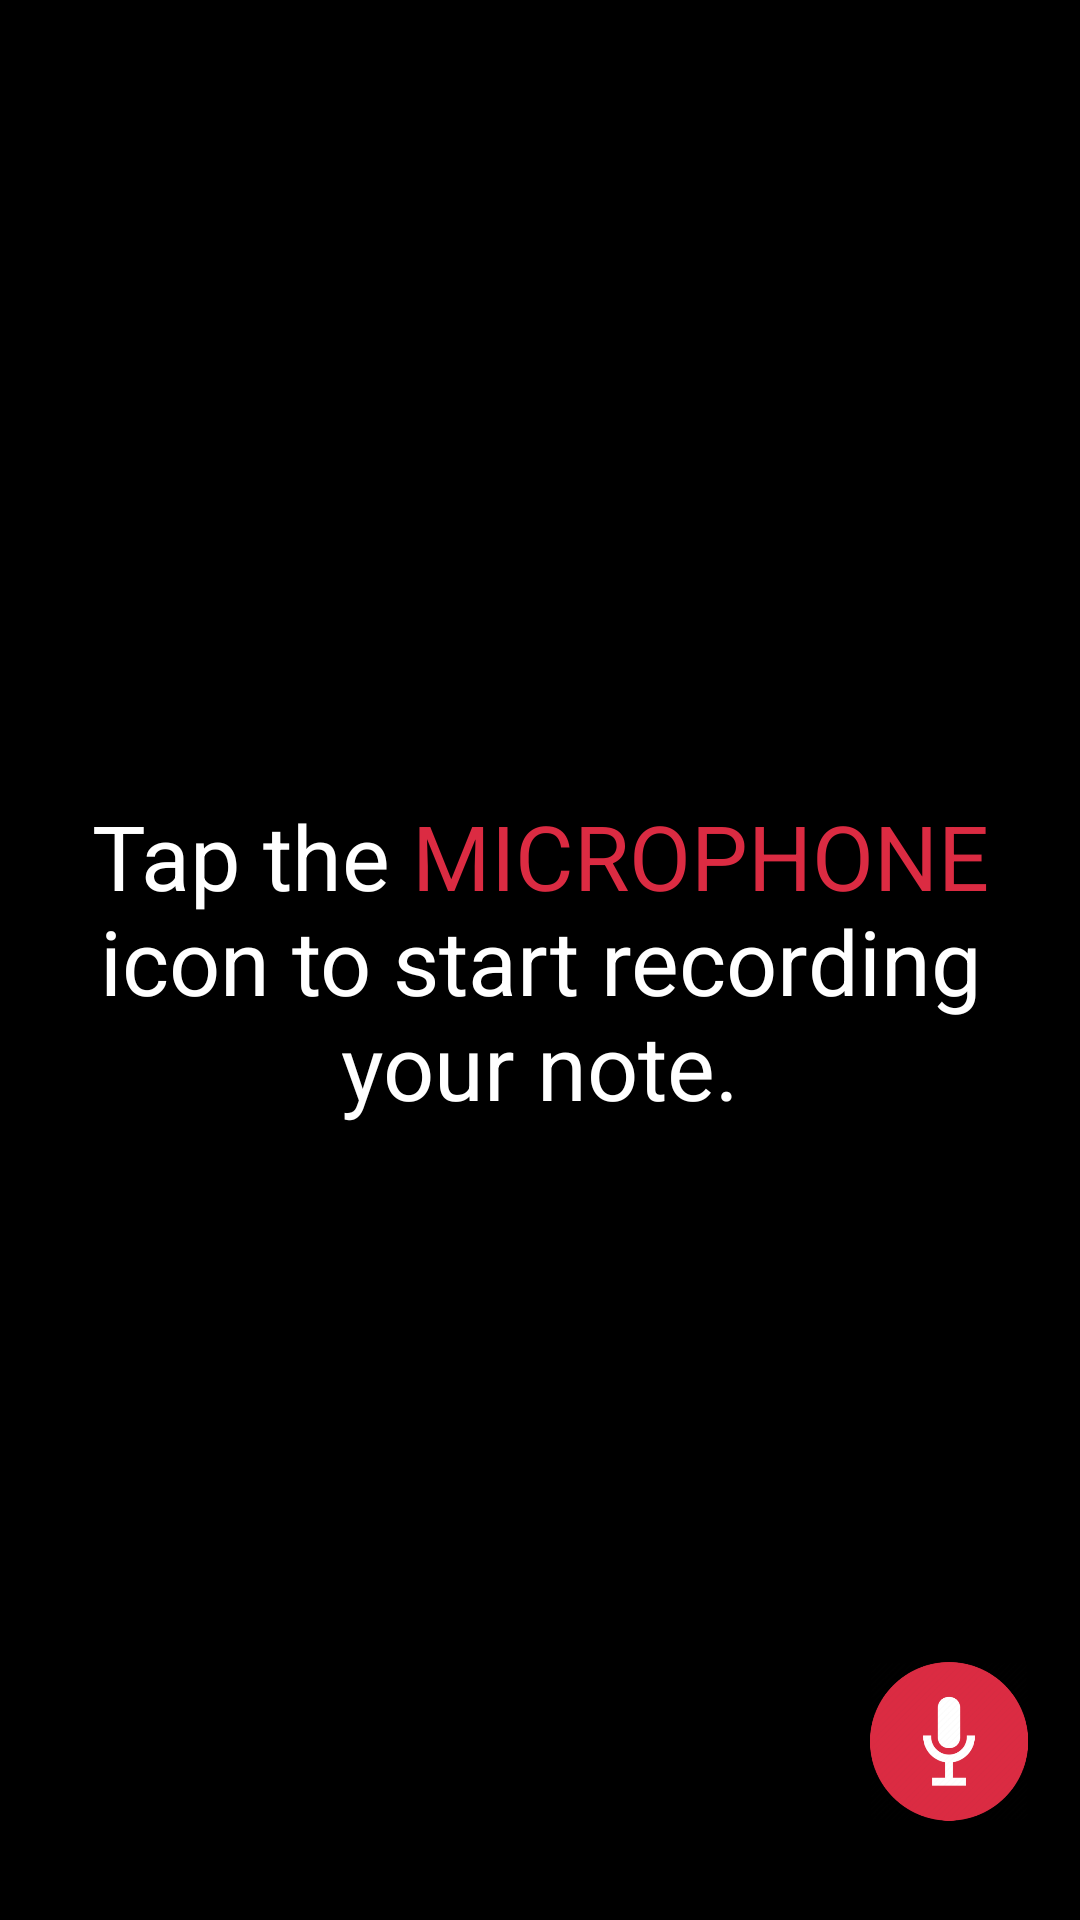

Where icons sit on this 1080w x 1920h app screen, as (x1,y1,x2,y2):
micro: (870,1662,1028,1821)
